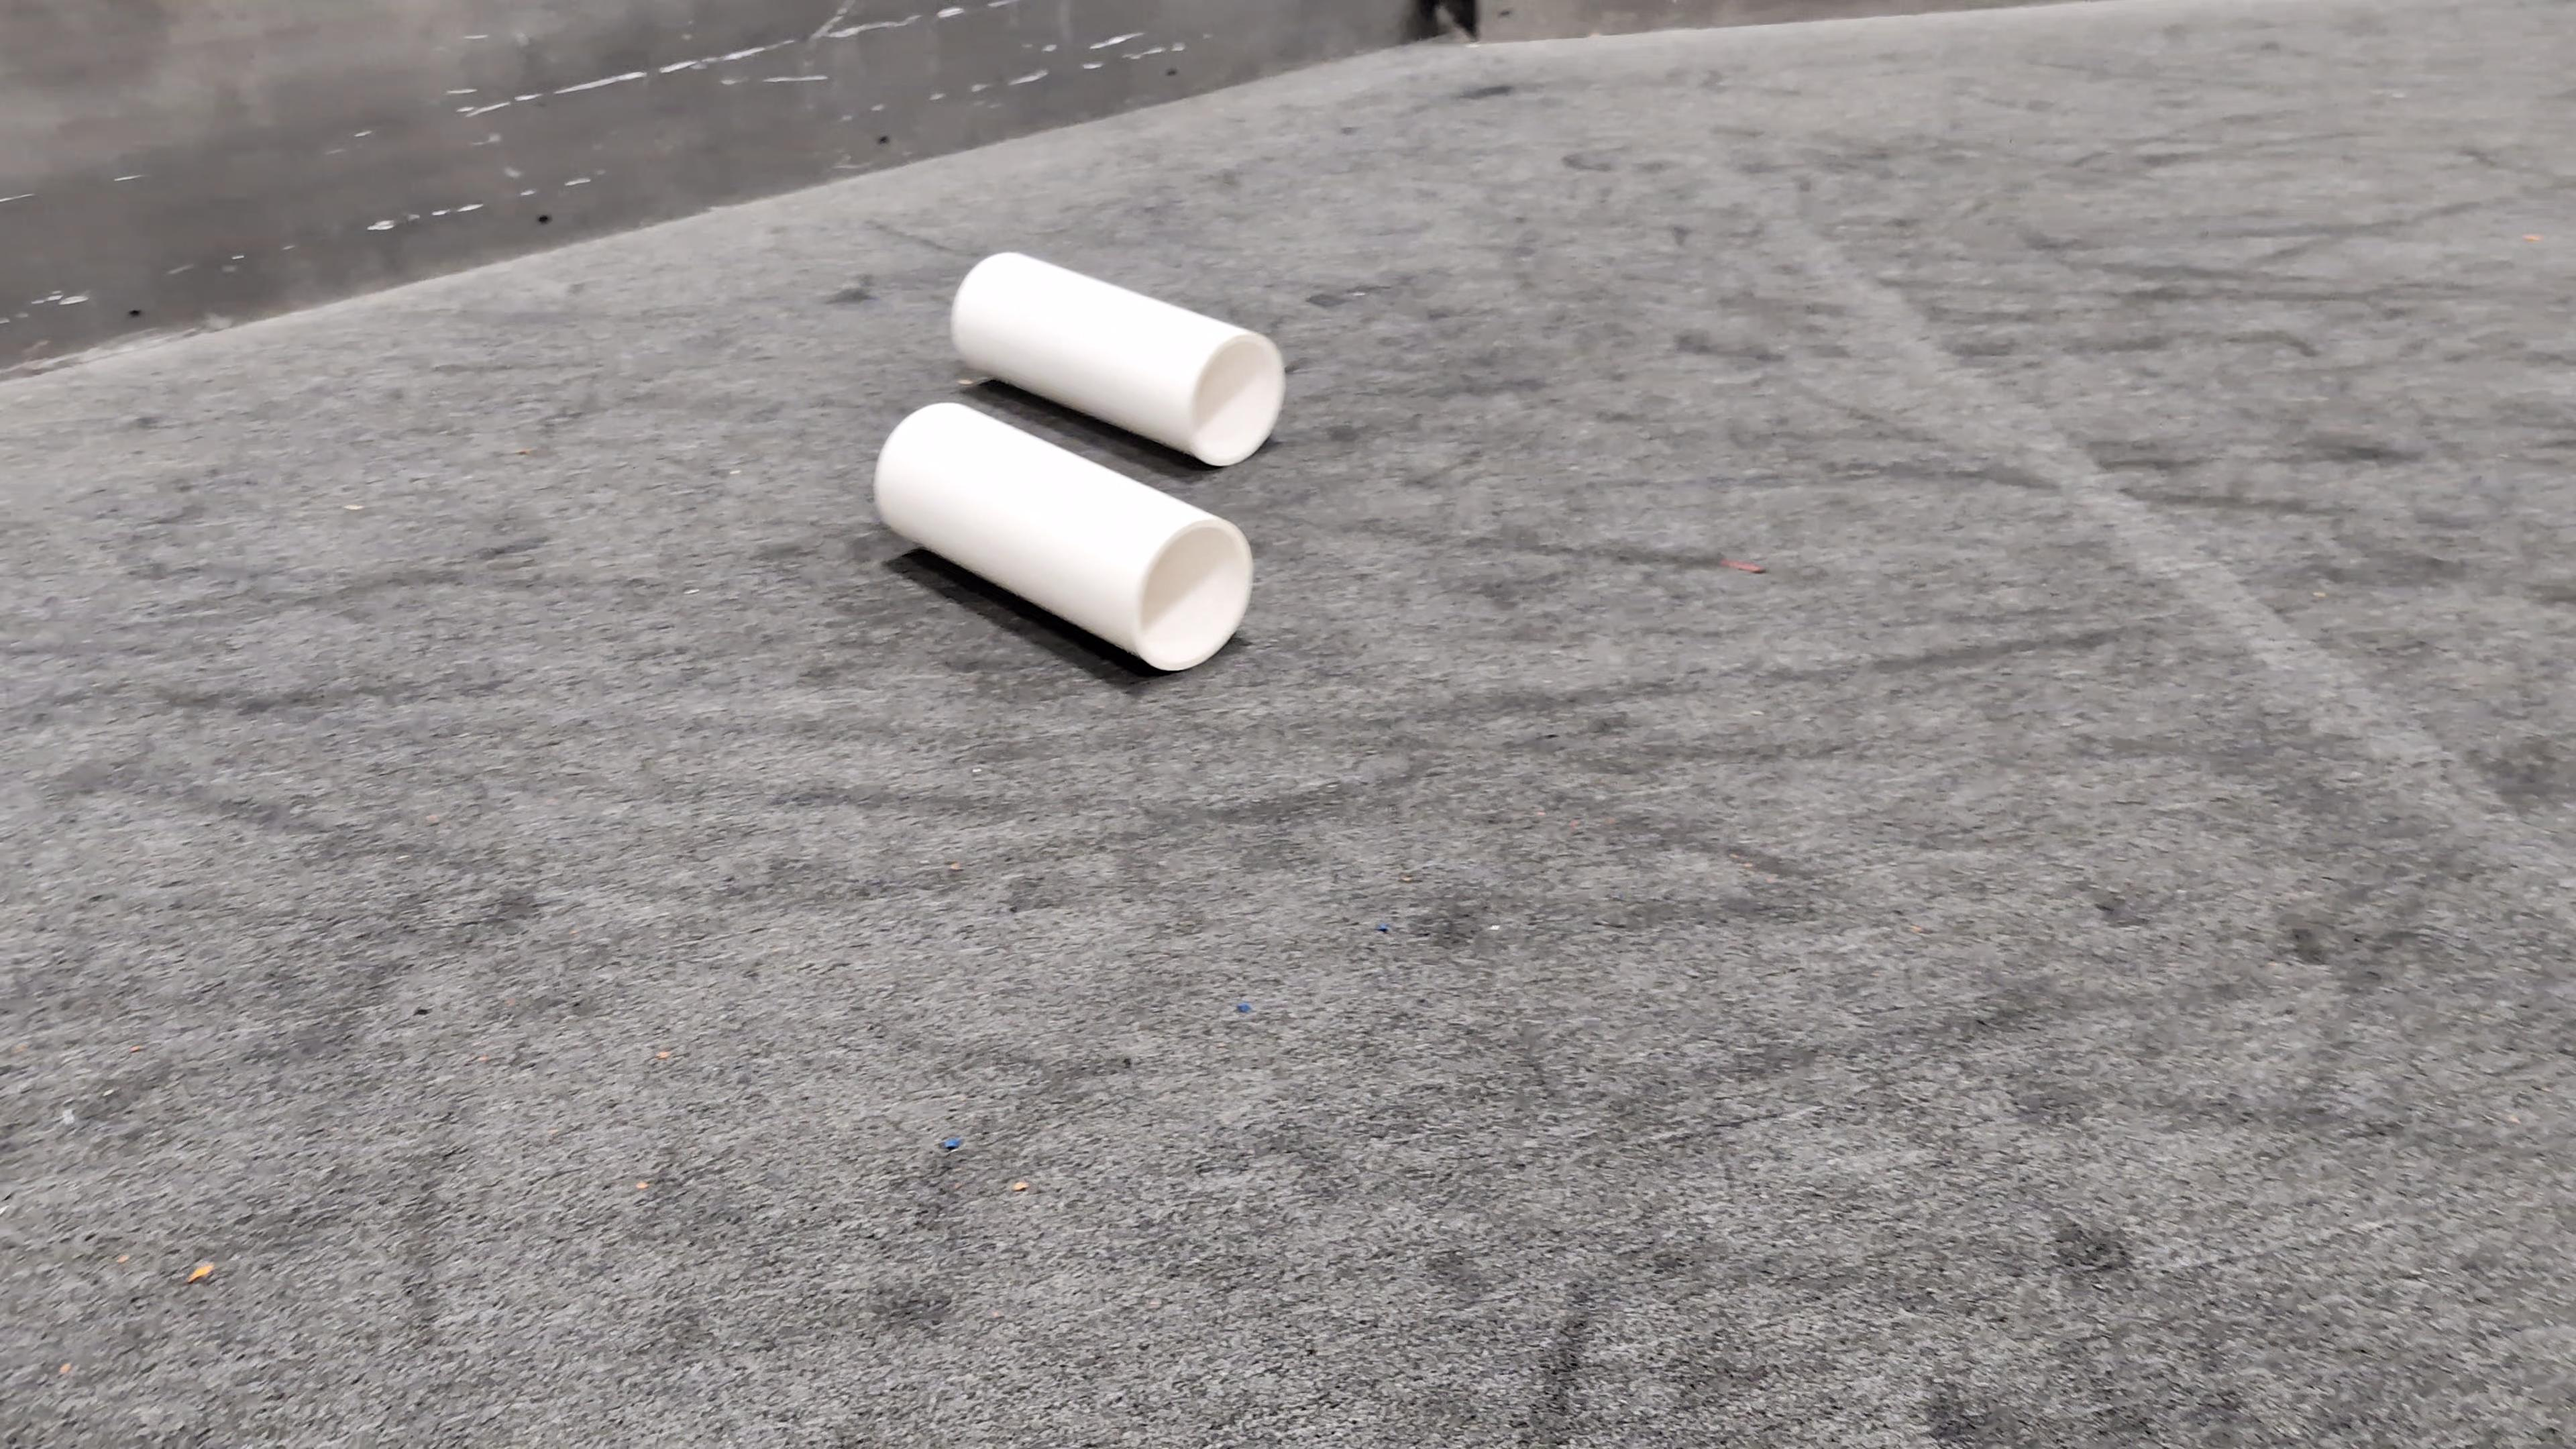coral: (870, 391, 1260, 674), (954, 251, 1283, 467)
